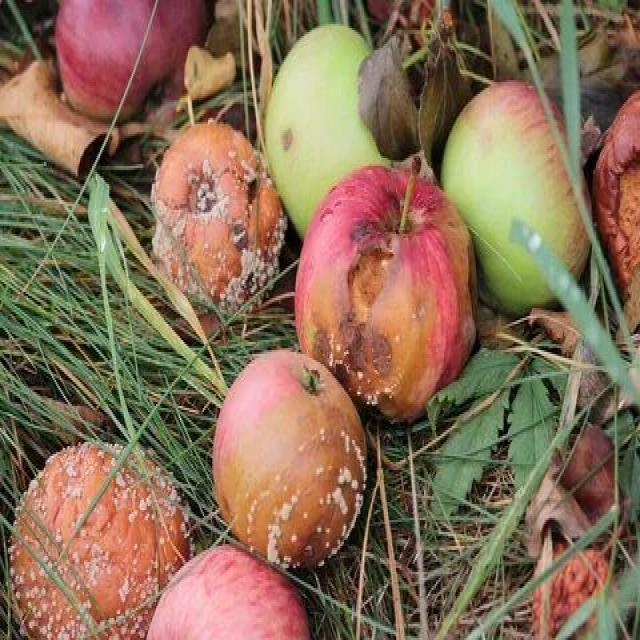Apple: (292, 162, 472, 408), (210, 347, 372, 567), (10, 438, 172, 640), (148, 118, 285, 310)
